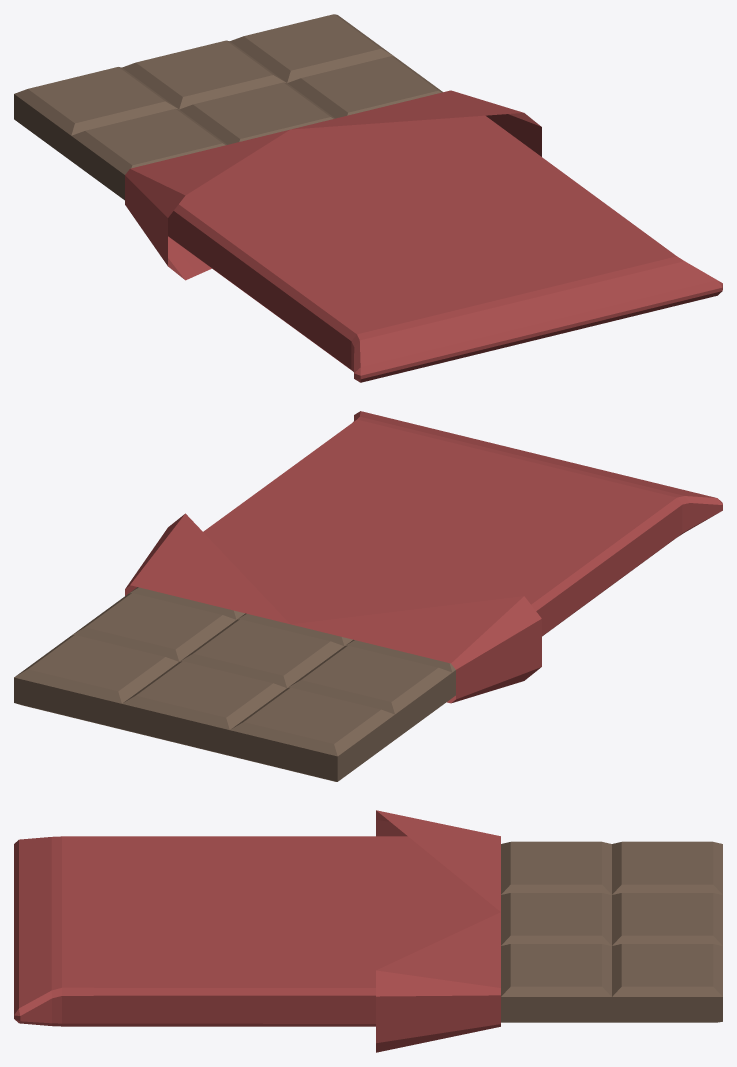
The model's file is Chocolate.fbx.
The picture shows the model from 3 angles, top to bottom: view 1: azimuth 30°, elevation 25°; view 2: azimuth 150°, elevation 25°; view 3: azimuth 270°, elevation 25°; orthographic projection. The views are drawn at different scales.
Parts seen in each view (by area): view 1: Chocolate; view 2: Chocolate; view 3: Chocolate.
Part boxes in pixels (box(x1,y1,x2,y2)): Chocolate: box(14, 14, 722, 382); Chocolate: box(14, 411, 722, 781); Chocolate: box(14, 810, 722, 1052).
Size of the model in its own units: 25.68 by 5.58 by 43.53.
